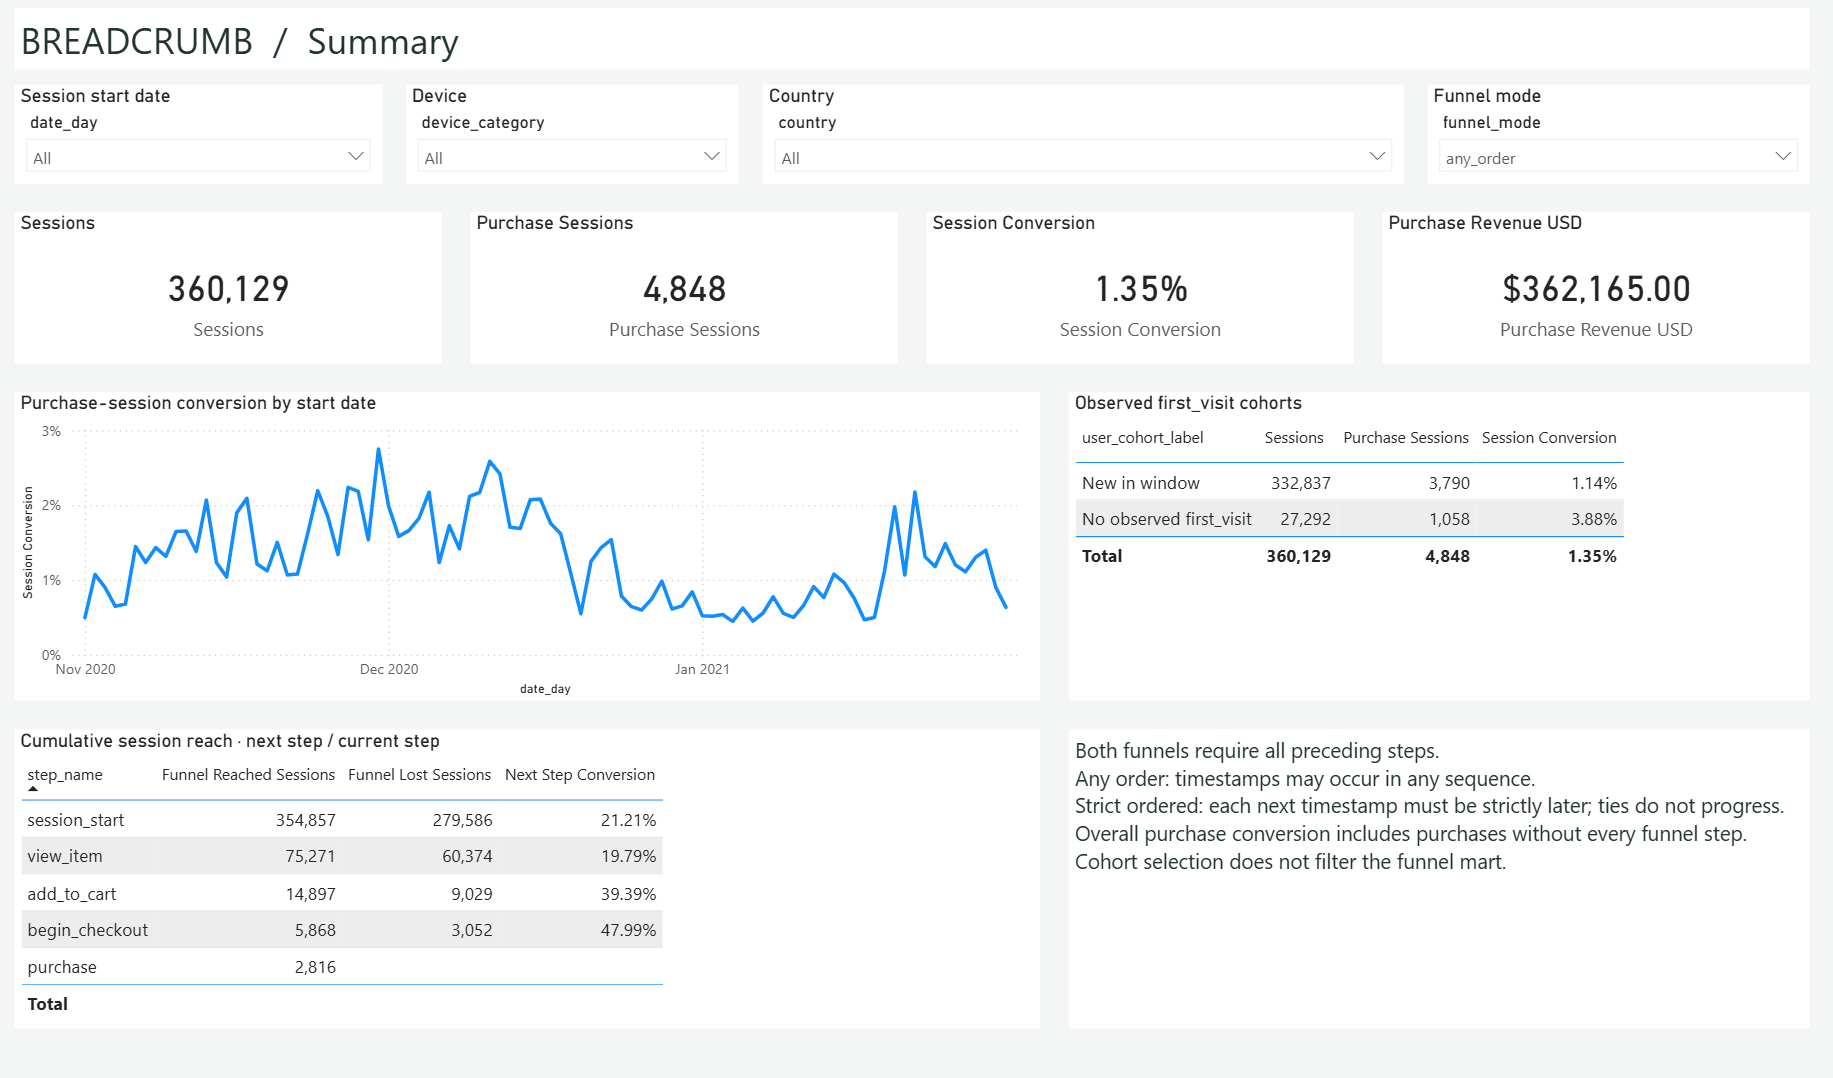

This screenshot's page, from the dashboard's own definition file:
{"tool":"powerbi","page":{"name":"Summary","canvas":[1560,984],"ordinal":0},"visuals":[{"type":"textbox","box":[24,10,1512,52],"z":0},{"type":"textbox","box":[24,944,1512,36],"z":1},{"type":"slicer","title":"Session start date","fields":{"Values":["dim_date.date_day"]},"box":[24,74,310,84],"z":2},{"type":"slicer","title":"Device","fields":{"Values":["dim_device.device_category"]},"box":[354,74,280,84],"z":3},{"type":"slicer","title":"Country","fields":{"Values":["dim_country.country"]},"box":[654,74,540,84],"z":4},{"type":"slicer","title":"Funnel mode","fields":{"Values":["fct_funnel_daily.funnel_mode"]},"box":[1214,74,322,84],"z":5},{"type":"card","title":"Sessions","fields":{"Values":["fct_sessions.Sessions"]},"box":[24,182,360,128],"z":6},{"type":"card","title":"Purchase Sessions","fields":{"Values":["fct_sessions.Purchase Sessions"]},"box":[408,182,360,128],"z":7},{"type":"card","title":"Session Conversion","fields":{"Values":["fct_sessions.Session Conversion"]},"box":[792,182,360,128],"z":8},{"type":"card","title":"Purchase Revenue USD","fields":{"Values":["fct_sessions.Purchase Revenue USD"]},"box":[1176,182,360,128],"z":9},{"type":"lineChart","title":"Purchase-session conversion by start date","fields":{"Category":["dim_date.date_day"],"Y":["fct_sessions.Session Conversion"]},"box":[24,334,864,260],"z":10},{"type":"tableEx","title":"Observed first_visit cohorts","fields":{"Values":["fct_sessions.user_cohort_label","fct_sessions.Sessions","fct_sessions.Purchase Sessions","fct_sessions.Session Conversion"]},"box":[912,334,624,260],"z":11},{"type":"tableEx","title":"Cumulative session reach · next step / current step","fields":{"Values":["fct_funnel_daily.step_name","fct_sessions.Funnel Reached Sessions","fct_sessions.Funnel Lost Sessions","fct_sessions.Next Step Conversion"]},"box":[24,618,864,252],"z":12},{"type":"textbox","box":[912,618,624,252],"z":13}]}

Visuals, with their boxes on the page's 1560x984 design canvas (x1, y1, x2, y2). These are canvas units, not pixel positions in the 1833x1078 screenshot, which may show the page scaled, cropped or inside an application window:
textbox: (left=24, top=10, right=1536, bottom=62)
textbox: (left=24, top=944, right=1536, bottom=980)
"Session start date" slicer: (left=24, top=74, right=334, bottom=158)
"Device" slicer: (left=354, top=74, right=634, bottom=158)
"Country" slicer: (left=654, top=74, right=1194, bottom=158)
"Funnel mode" slicer: (left=1214, top=74, right=1536, bottom=158)
"Sessions" card: (left=24, top=182, right=384, bottom=310)
"Purchase Sessions" card: (left=408, top=182, right=768, bottom=310)
"Session Conversion" card: (left=792, top=182, right=1152, bottom=310)
"Purchase Revenue USD" card: (left=1176, top=182, right=1536, bottom=310)
"Purchase-session conversion by start date" lineChart: (left=24, top=334, right=888, bottom=594)
"Observed first_visit cohorts" tableEx: (left=912, top=334, right=1536, bottom=594)
"Cumulative session reach · next step / current step" tableEx: (left=24, top=618, right=888, bottom=870)
textbox: (left=912, top=618, right=1536, bottom=870)
